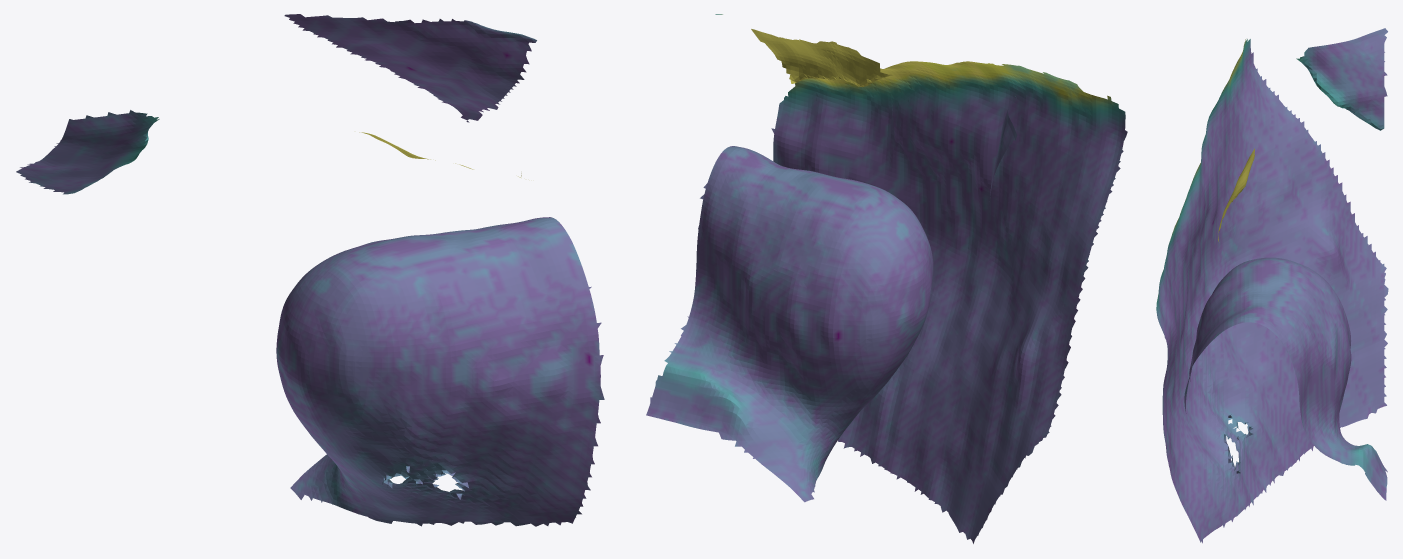
File: crop1030_gap.glb
3 renders of one model, left to right at view 1: azimuth 30°, elevation 25°; view 2: azimuth 150°, elevation 25°; view 3: azimuth 270°, elevation 25°, orthographic. The views are drawn at different scales.
Parts seen in each view (by area): view 1: world; view 2: world; view 3: world.
Part boxes in pixels (bbox=[...]): world: bbox=[16, 14, 604, 526]; world: bbox=[646, 14, 1127, 543]; world: bbox=[1156, 28, 1388, 543].
Size of the model in its own units: 1536 by 1535 by 880.
